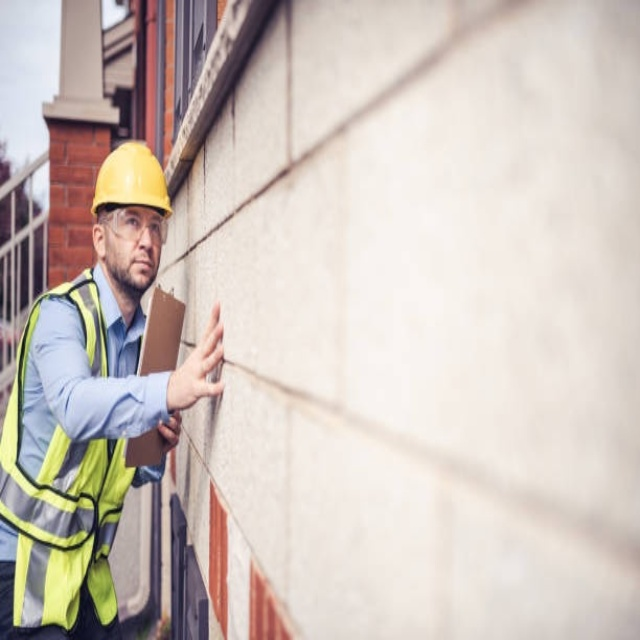Gafas: (101, 209, 167, 246)
Sin_guantes: (172, 298, 230, 422)
Sin_mascara: (123, 251, 154, 282)
